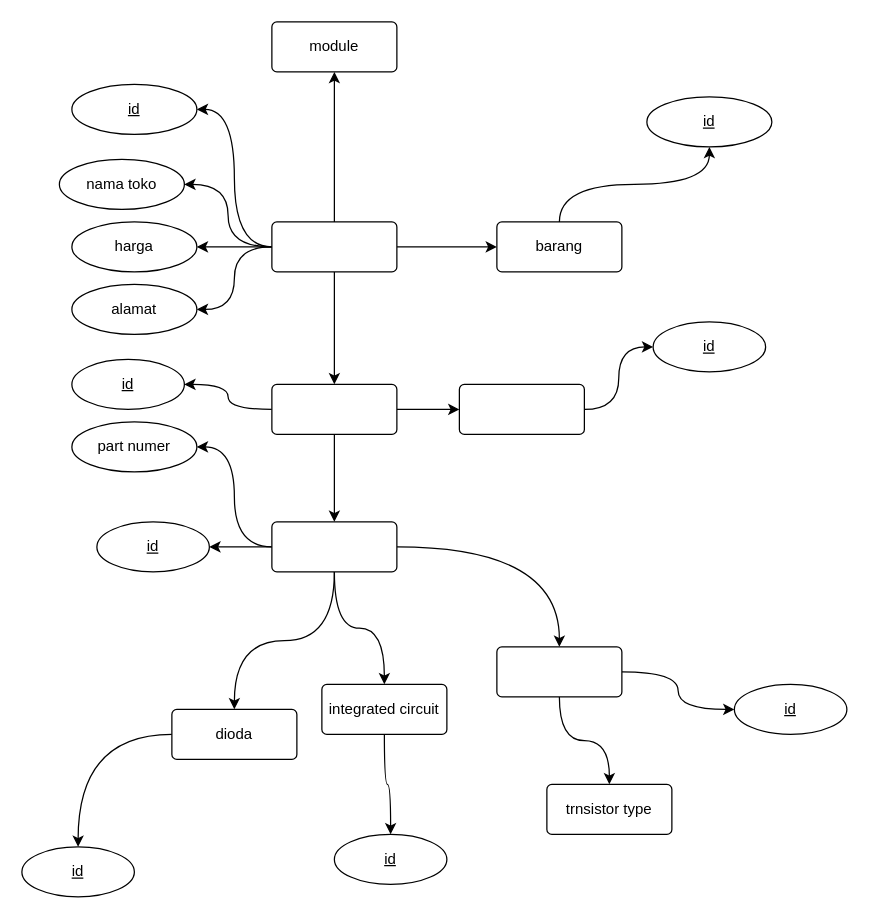
This 869x919 diagram has some shape labels left out. Each missing label, with the centre of its shape:
active: (x=334, y=546)
komponen: (x=334, y=408)
passive: (x=521, y=408)
toko: (x=334, y=246)
trnsistor: (x=559, y=671)
